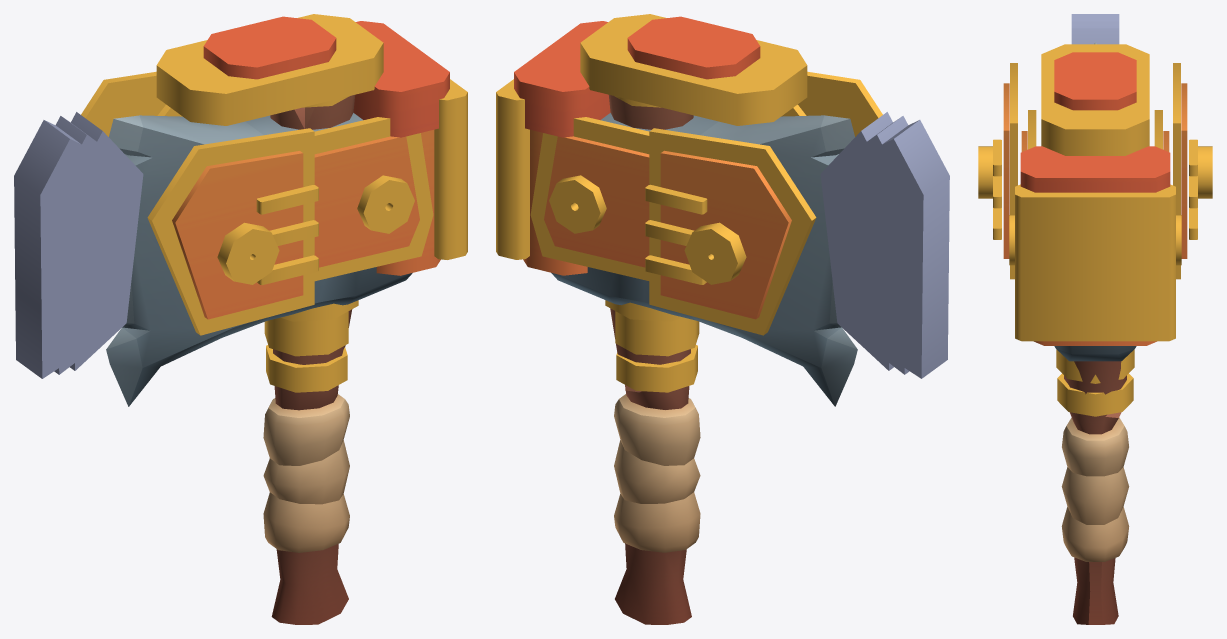
The model's file is axe_levels.glb.
3 renders of one model, left to right at view 1: azimuth 30°, elevation 25°; view 2: azimuth 150°, elevation 25°; view 3: azimuth 270°, elevation 25°, orthographic. The views are drawn at different scales.
Visible parts, largest first — view 1: upgrade_axe_L8, axe, upgrade_axe_L6, upgrade_axe_L4, upgrade_axe_L3, upgrade_axe_L7, upgrade_axe_L5, upgrade_axe_L2; view 2: upgrade_axe_L8, axe, upgrade_axe_L6, upgrade_axe_L4, upgrade_axe_L3, upgrade_axe_L7, upgrade_axe_L5, upgrade_axe_L2; view 3: upgrade_axe_L8, axe, upgrade_axe_L7, upgrade_axe_L6, upgrade_axe_L5, upgrade_axe_L4, upgrade_axe_L3, upgrade_axe_L2.
Boxes of the visible parts, x1,y1,x2,y2 form: upgrade_axe_L8: (14, 14, 467, 378); axe: (106, 95, 412, 624); upgrade_axe_L6: (54, 71, 358, 374); upgrade_axe_L4: (70, 112, 414, 370); upgrade_axe_L3: (157, 104, 433, 281); upgrade_axe_L7: (256, 21, 449, 285); upgrade_axe_L5: (266, 130, 440, 392); upgrade_axe_L2: (264, 96, 349, 356); upgrade_axe_L8: (496, 14, 949, 378); axe: (551, 95, 857, 624); upgrade_axe_L6: (605, 71, 909, 374); upgrade_axe_L4: (549, 112, 893, 370); upgrade_axe_L3: (530, 104, 806, 280); upgrade_axe_L7: (514, 21, 707, 284); upgrade_axe_L5: (523, 129, 697, 392); upgrade_axe_L2: (614, 96, 699, 356); upgrade_axe_L8: (978, 14, 1212, 341); axe: (1054, 42, 1136, 624); upgrade_axe_L7: (993, 139, 1197, 239); upgrade_axe_L6: (1003, 21, 1187, 279); upgrade_axe_L5: (1034, 341, 1156, 416); upgrade_axe_L4: (1009, 28, 1181, 265); upgrade_axe_L3: (1021, 110, 1169, 151); upgrade_axe_L2: (1056, 349, 1134, 383).
Bounding box in the file's own units: 0.403 × 0.5644 × 0.227.
Materials: 2 (2 with a texture image).
